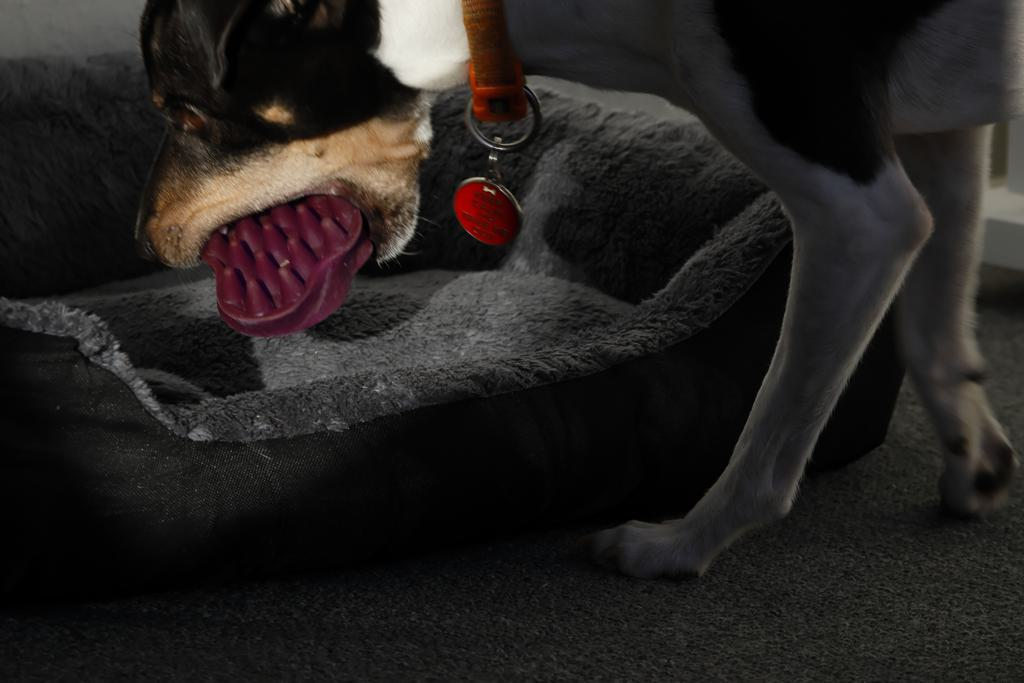Dog: (120, 0, 1024, 598)
